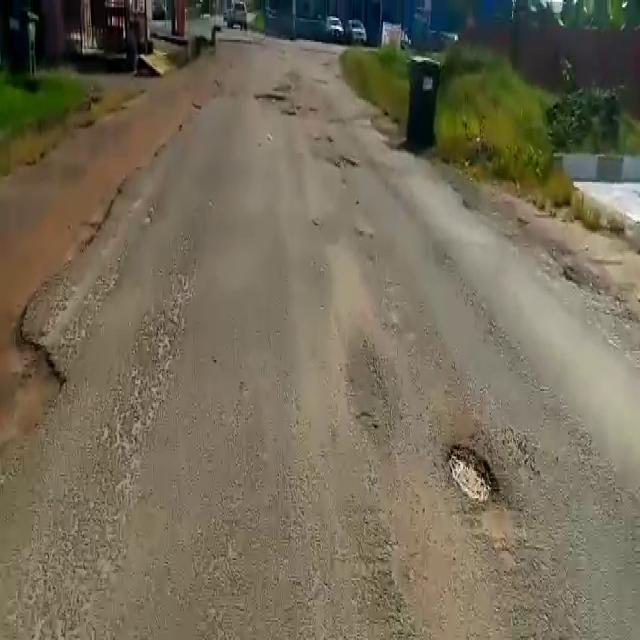Pothole: (442, 438, 507, 512), (336, 153, 358, 169)
